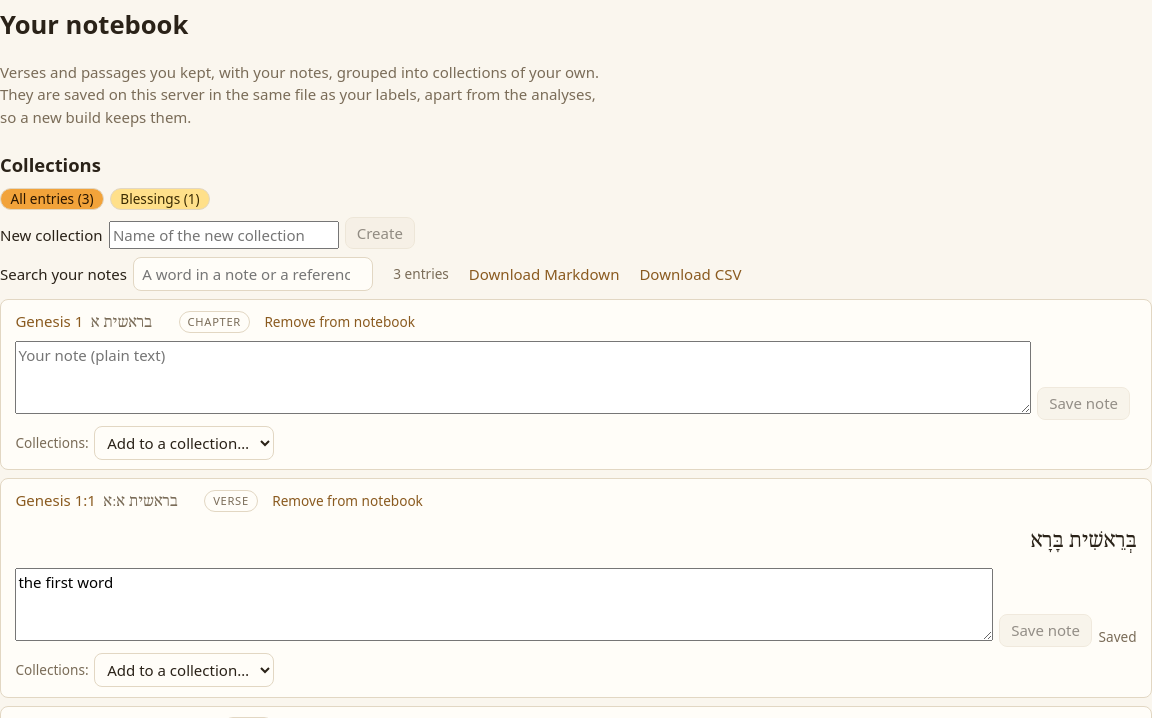
it: NotebookPage › lists the entries in canon order, filters them by collection and by text
Check: the text "3 entries" is shown, box [393,264,449,284]
Step 1. Click the button "Blessings (1)" → (160, 199), box [110,188,210,210]
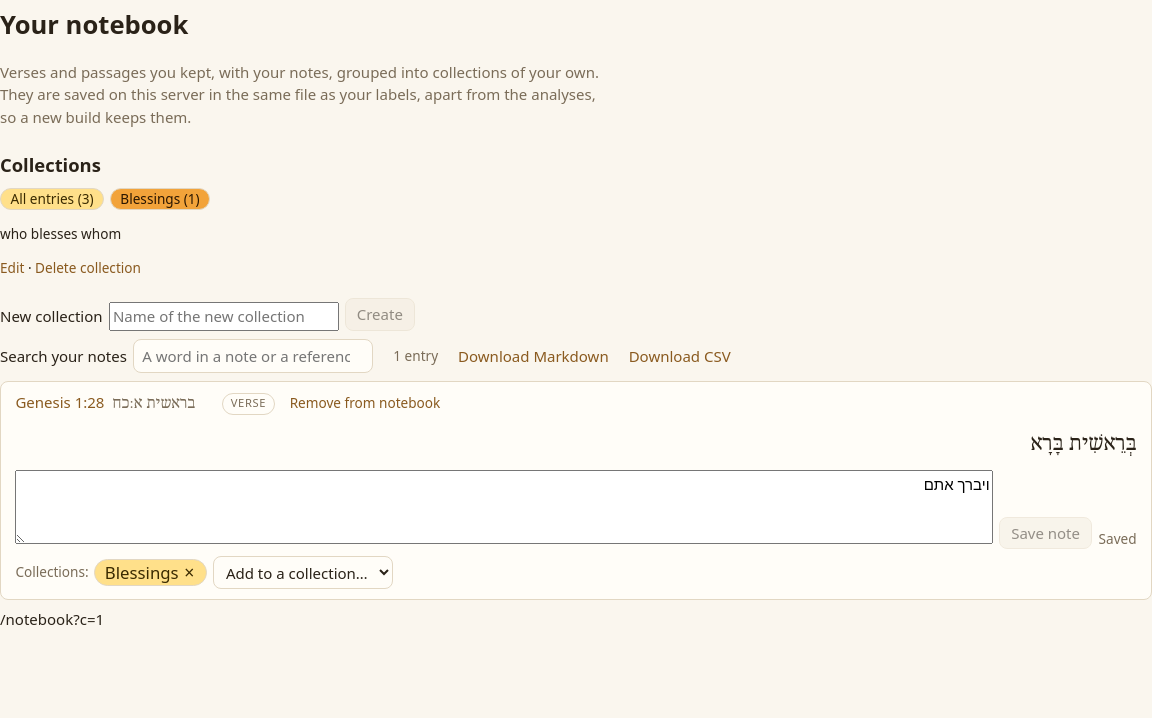
Check: the text with test id "loc" reads "/notebook?c=1", box [0,609,104,629]
Check: the text "who blesses whom" is shown, box [0,224,121,243]
Check: the number of list items with class "notebook-entry" is 1, box [0,381,1151,600]
Step 2. Click the button "All entries (3)" → (52, 199), box [0,188,104,210]
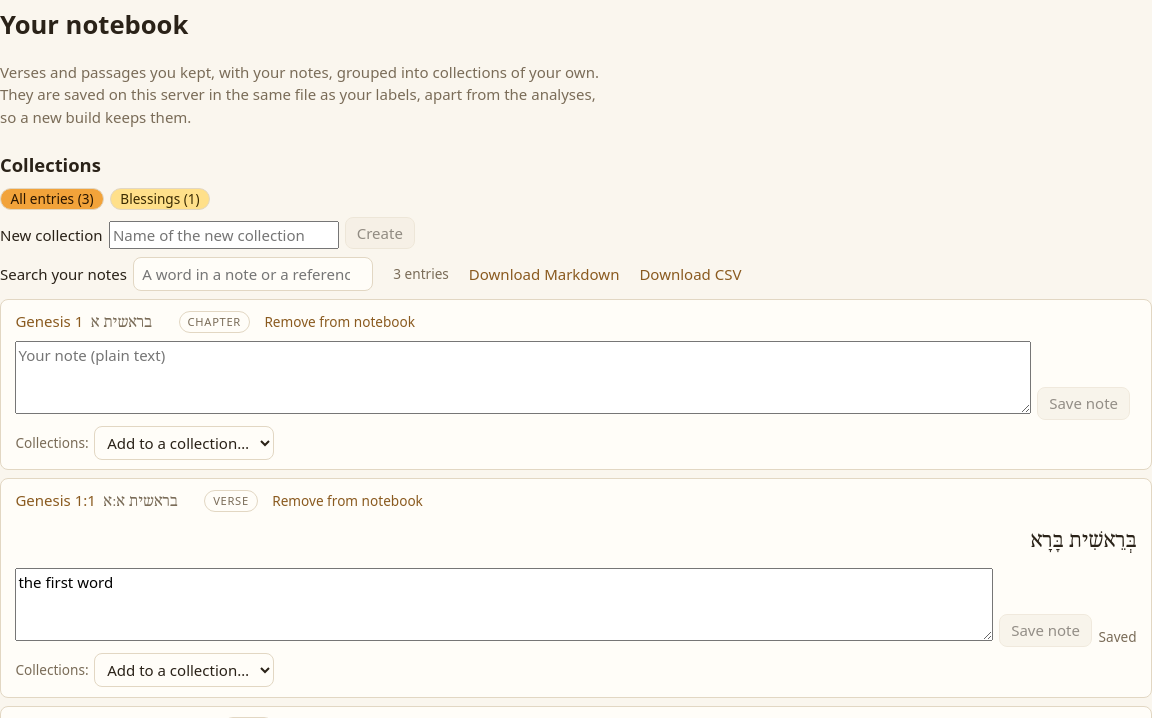
Step 3. Type "FIRST" into the search field labelled "Search your notes" → (253, 274), box [133,257,373,291]
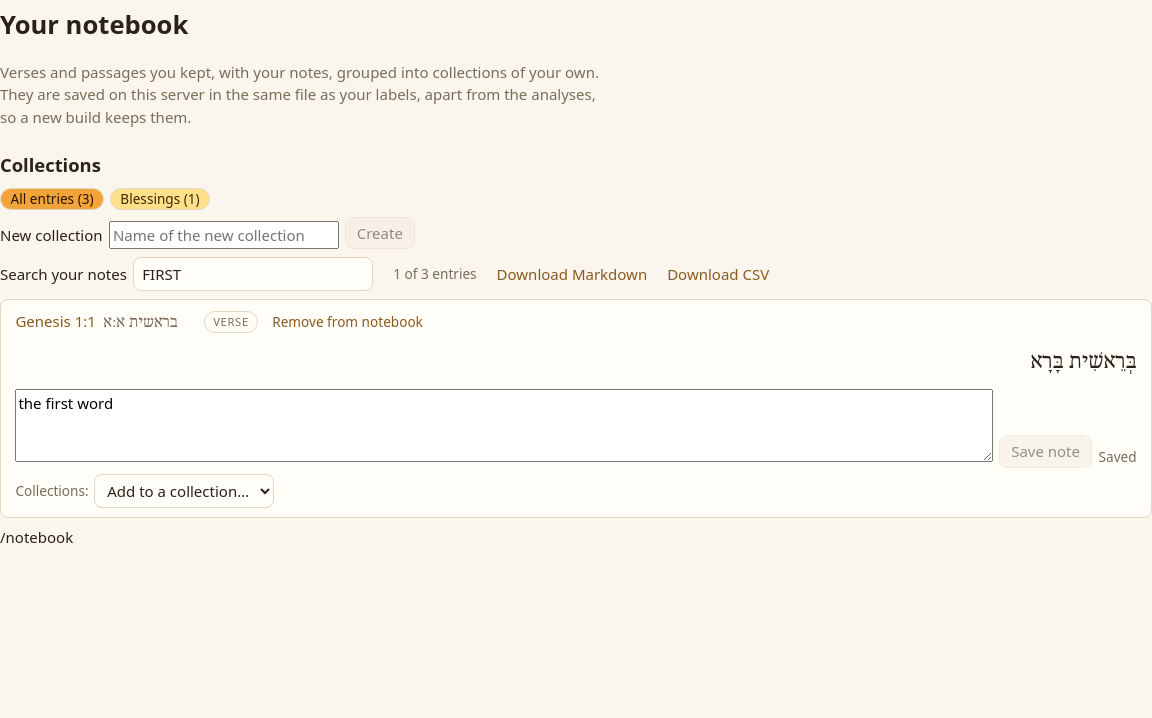
Check: the text "1 of 3 entries" is shown, box [393,264,477,284]
